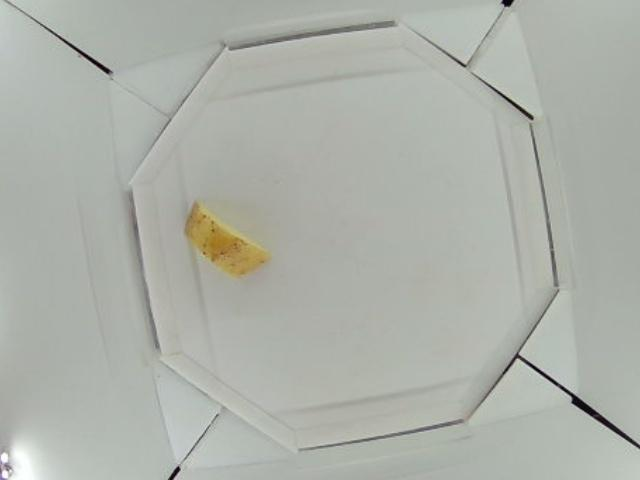Potato: (185, 201, 267, 278)
